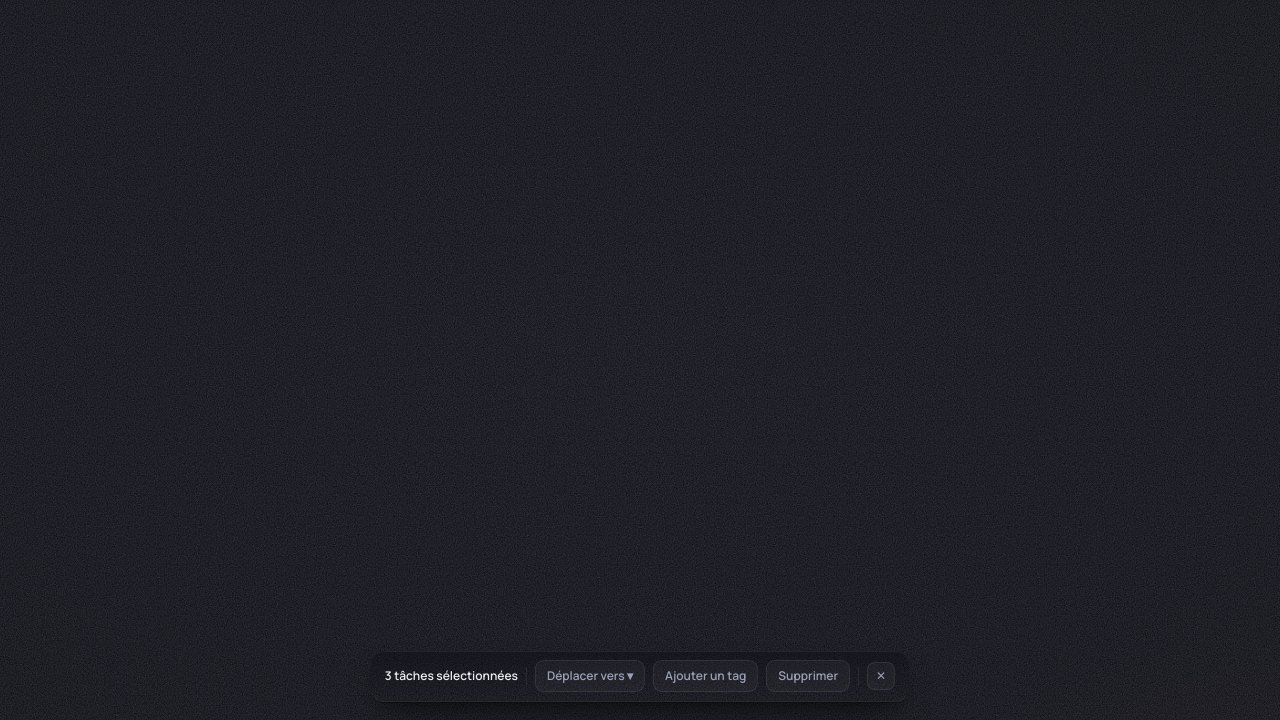
BulkBar › referme les menus sur Échap sans vider la sélection
Click the button "Déplacer vers ▾".
click(590, 676)  # box [535,660,645,692]
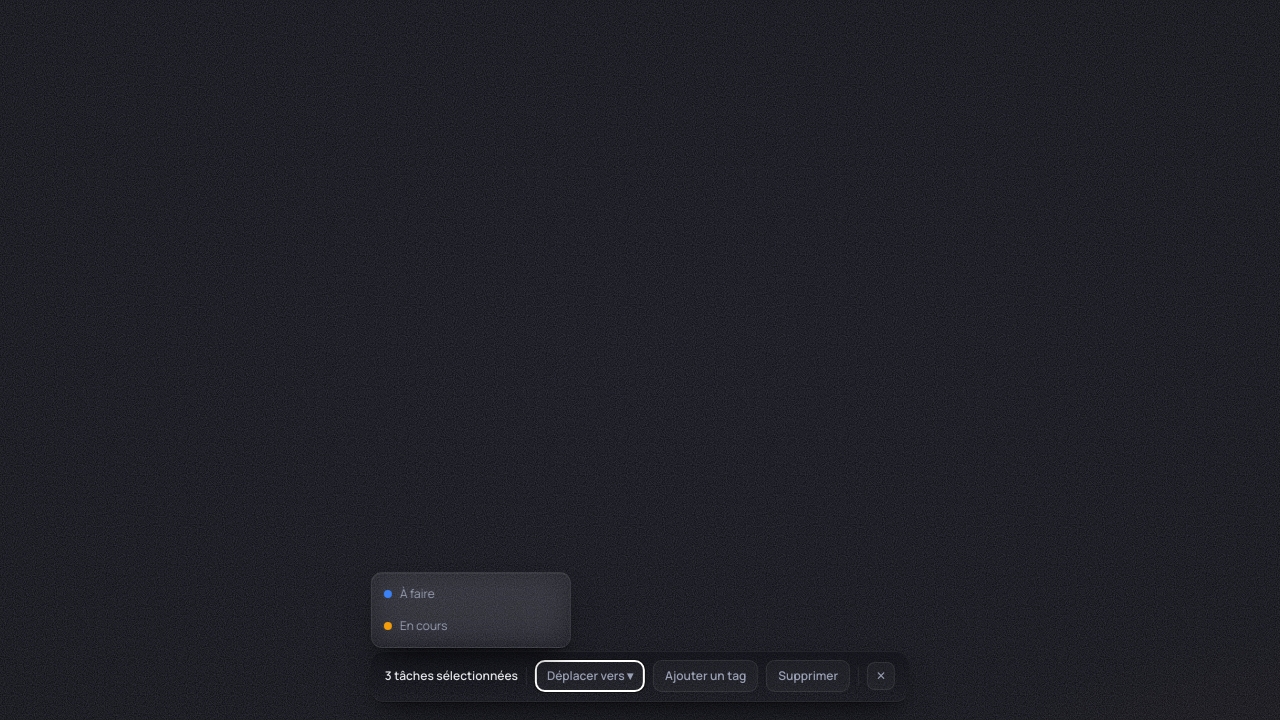
Check: the button "En cours" is shown, box [372,610,570,642]
Press Escape
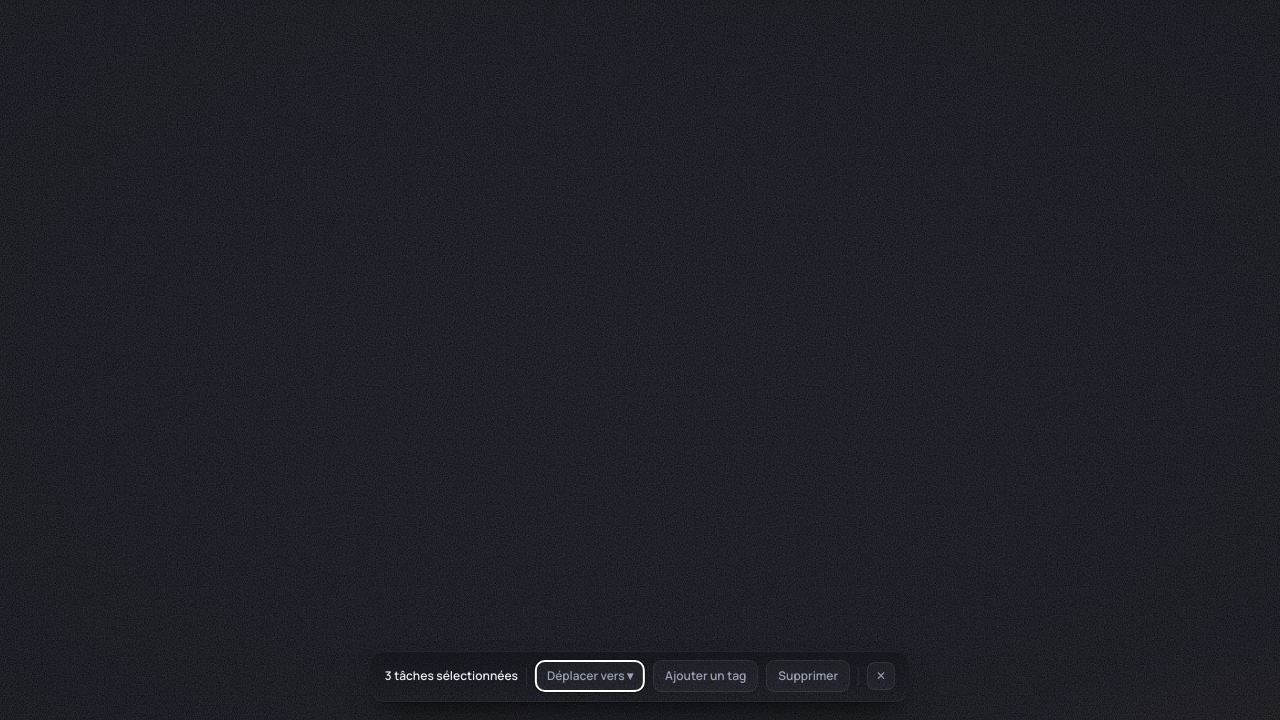
Check: the button "En cours" is gone
